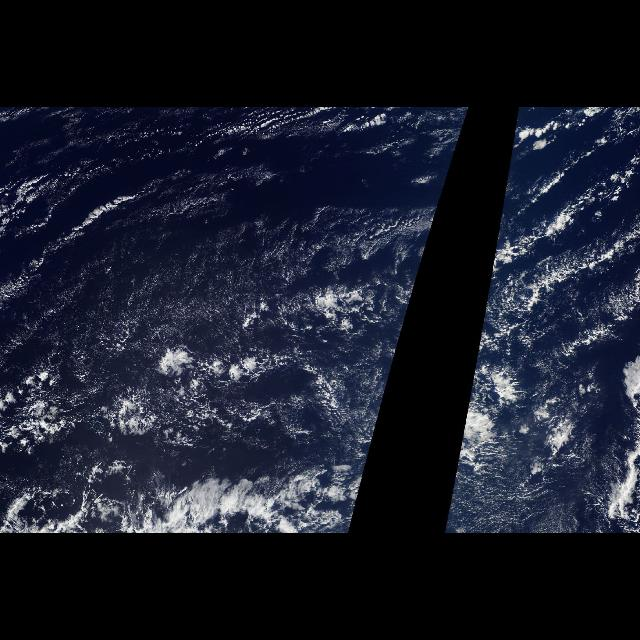Sugar: (0, 112, 428, 384), (442, 464, 616, 530)
